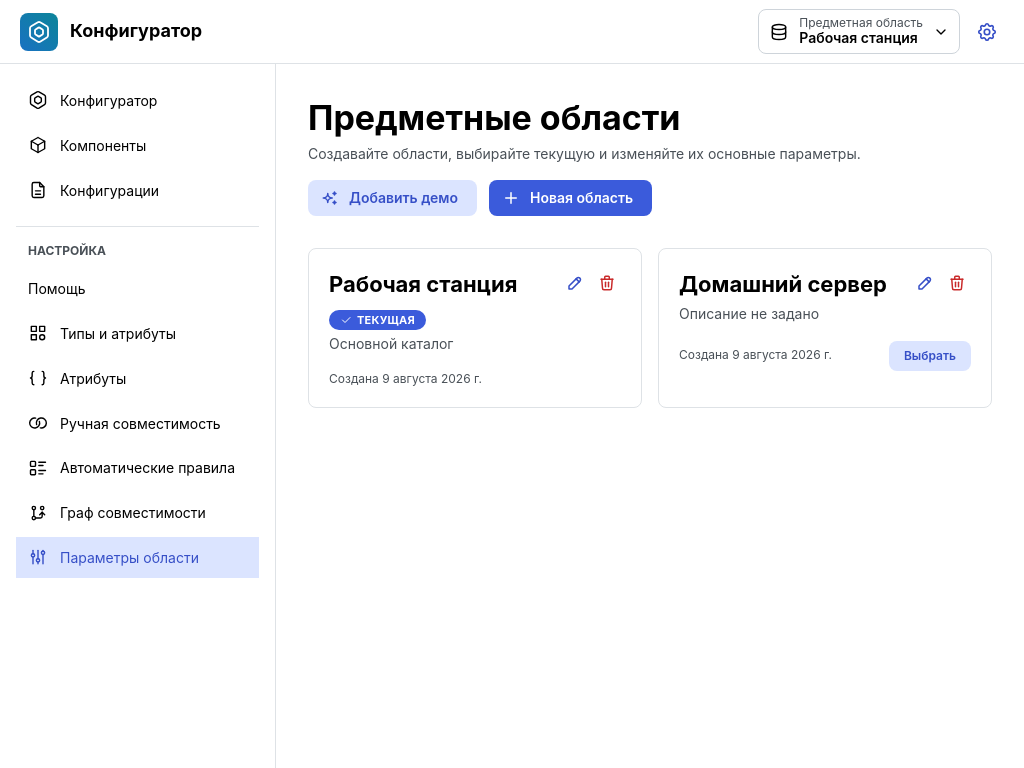
domain first run and management › edits a domain and selects it from the management page
Expected: the heading "Предметные области" is shown, [308,97,680,138]
Click the button named "Редактировать область Домашний сервер": [925, 284] box [911,270,939,298]
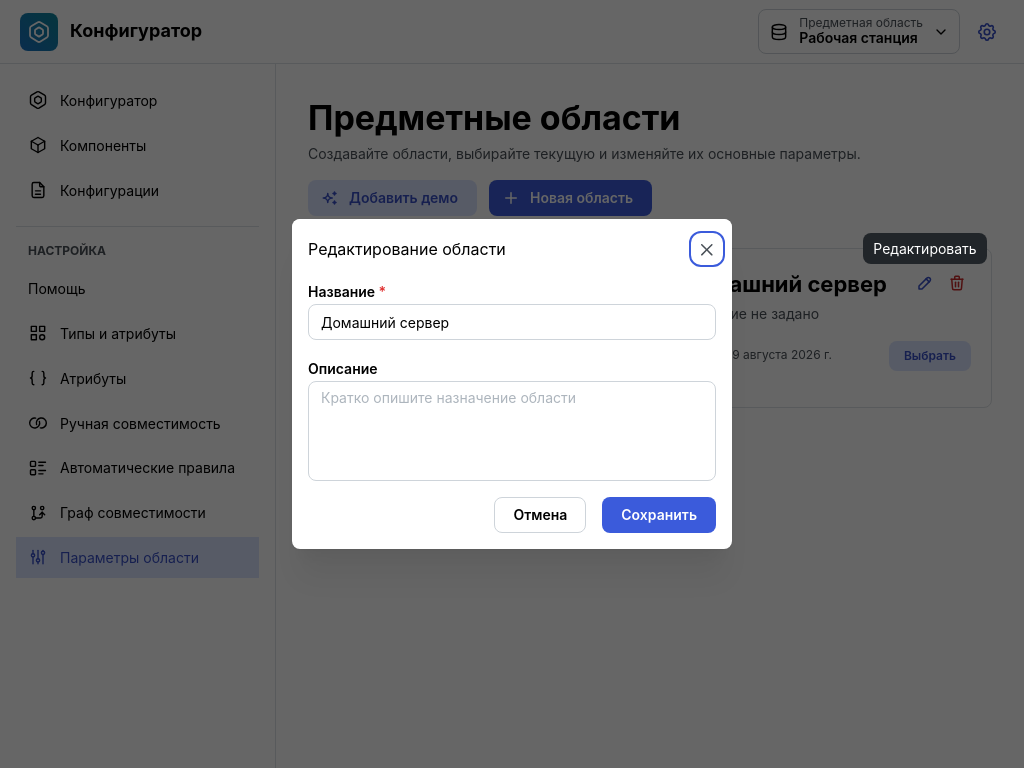
Replace the text in the field labelled "Название *" with "Домашнее облако": [512, 322] box [308,304,716,340]
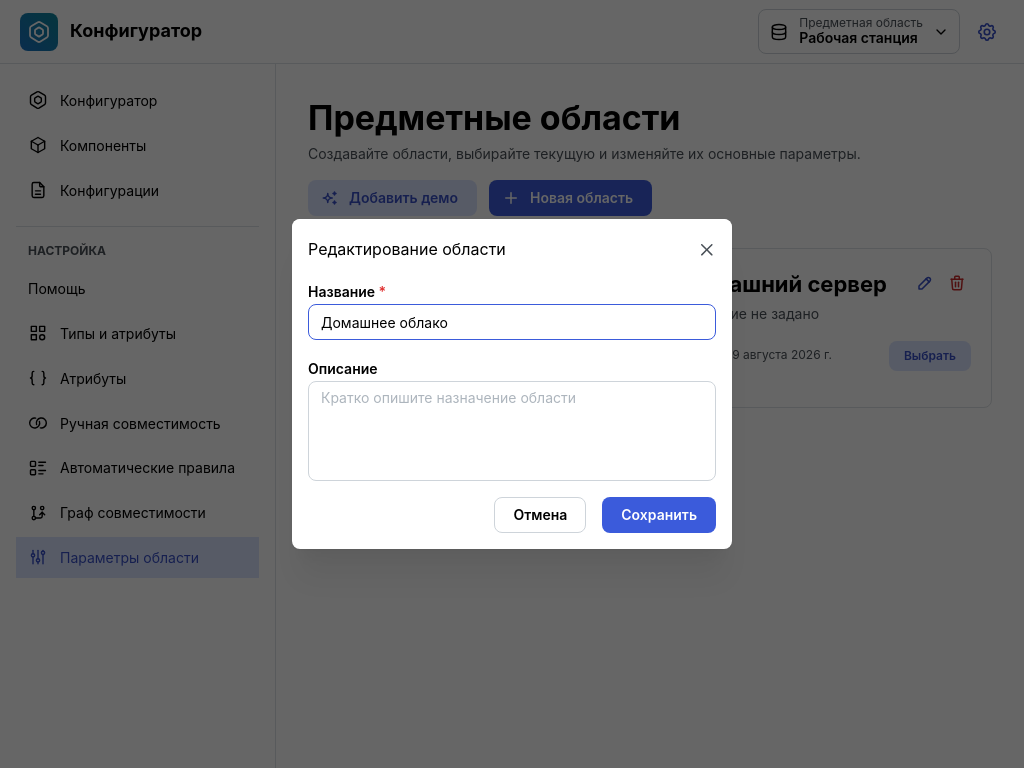
Click the button "Сохранить": [659, 515] box [602,497,716,533]
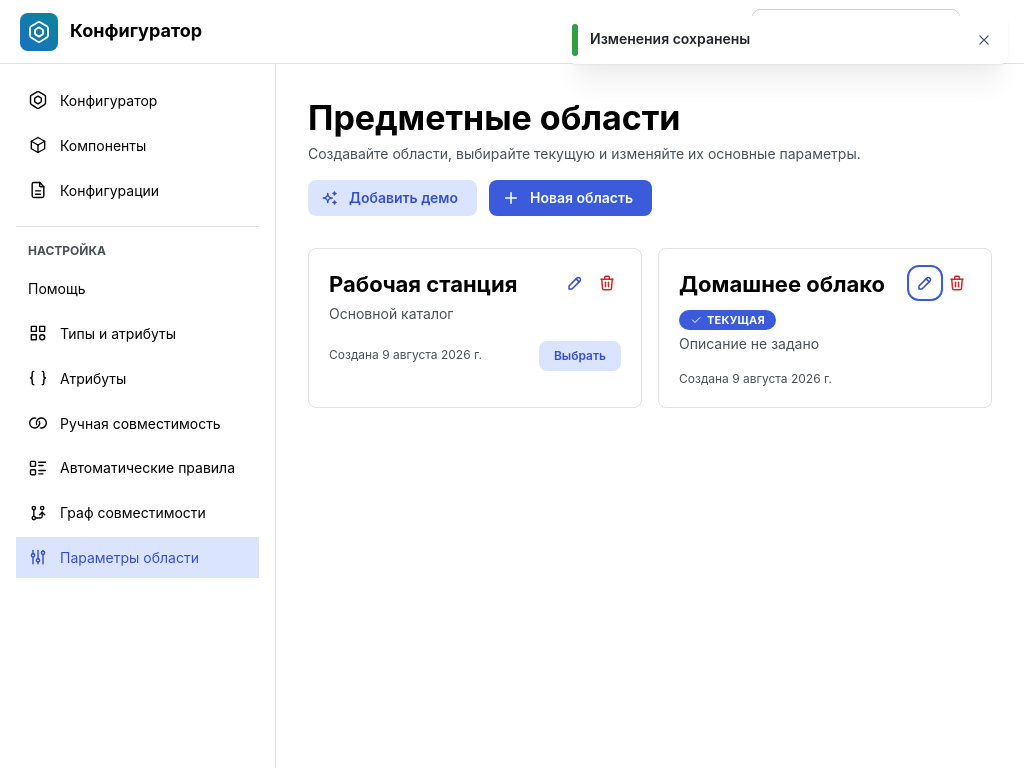
Expected: the heading "Домашнее облако" is shown, [679,270,885,300]
Expected: the text "Изменения сохранены" is shown, [590,30,750,47]
